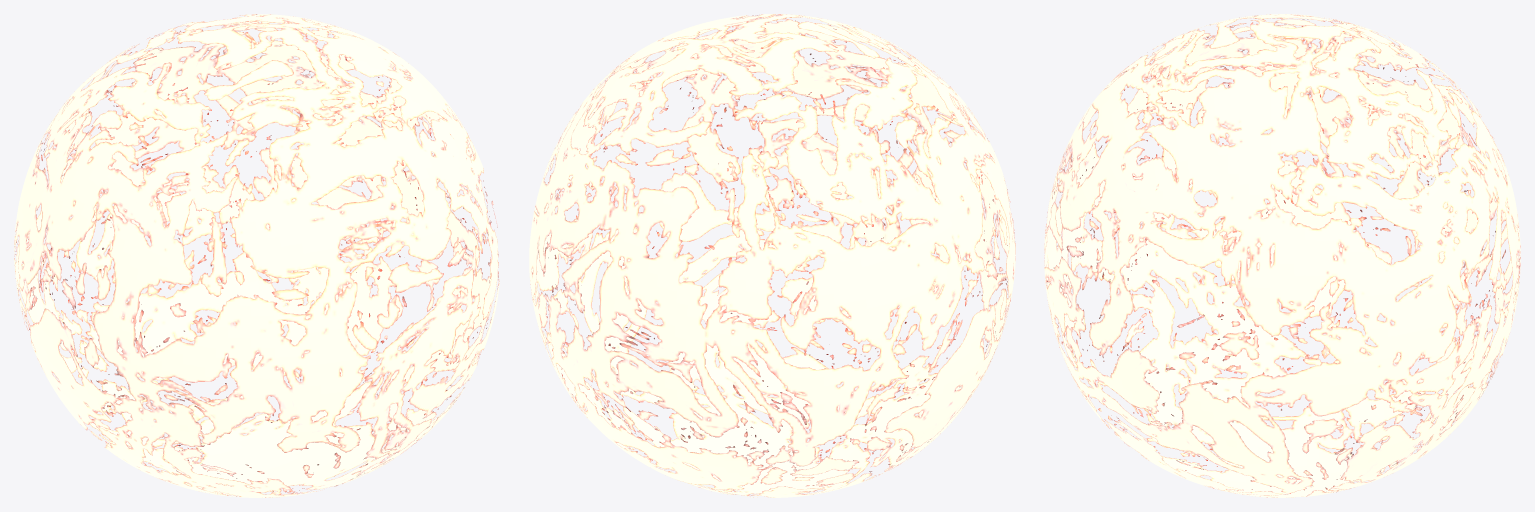
3 renders of one model, left to right at view 1: azimuth 30°, elevation 25°; view 2: azimuth 150°, elevation 25°; view 3: azimuth 270°, elevation 25°, orthographic.
Parts seen in each view (by area): view 1: Cube; view 2: Cube; view 3: Cube.
Boxes of the visible parts, x1,y1,x2,y2 form: Cube: (14,14,499,497); Cube: (529,14,1015,497); Cube: (1044,14,1520,497).
Size of the model in its own units: 504 by 504 by 504.
1 material, 1 textured.
